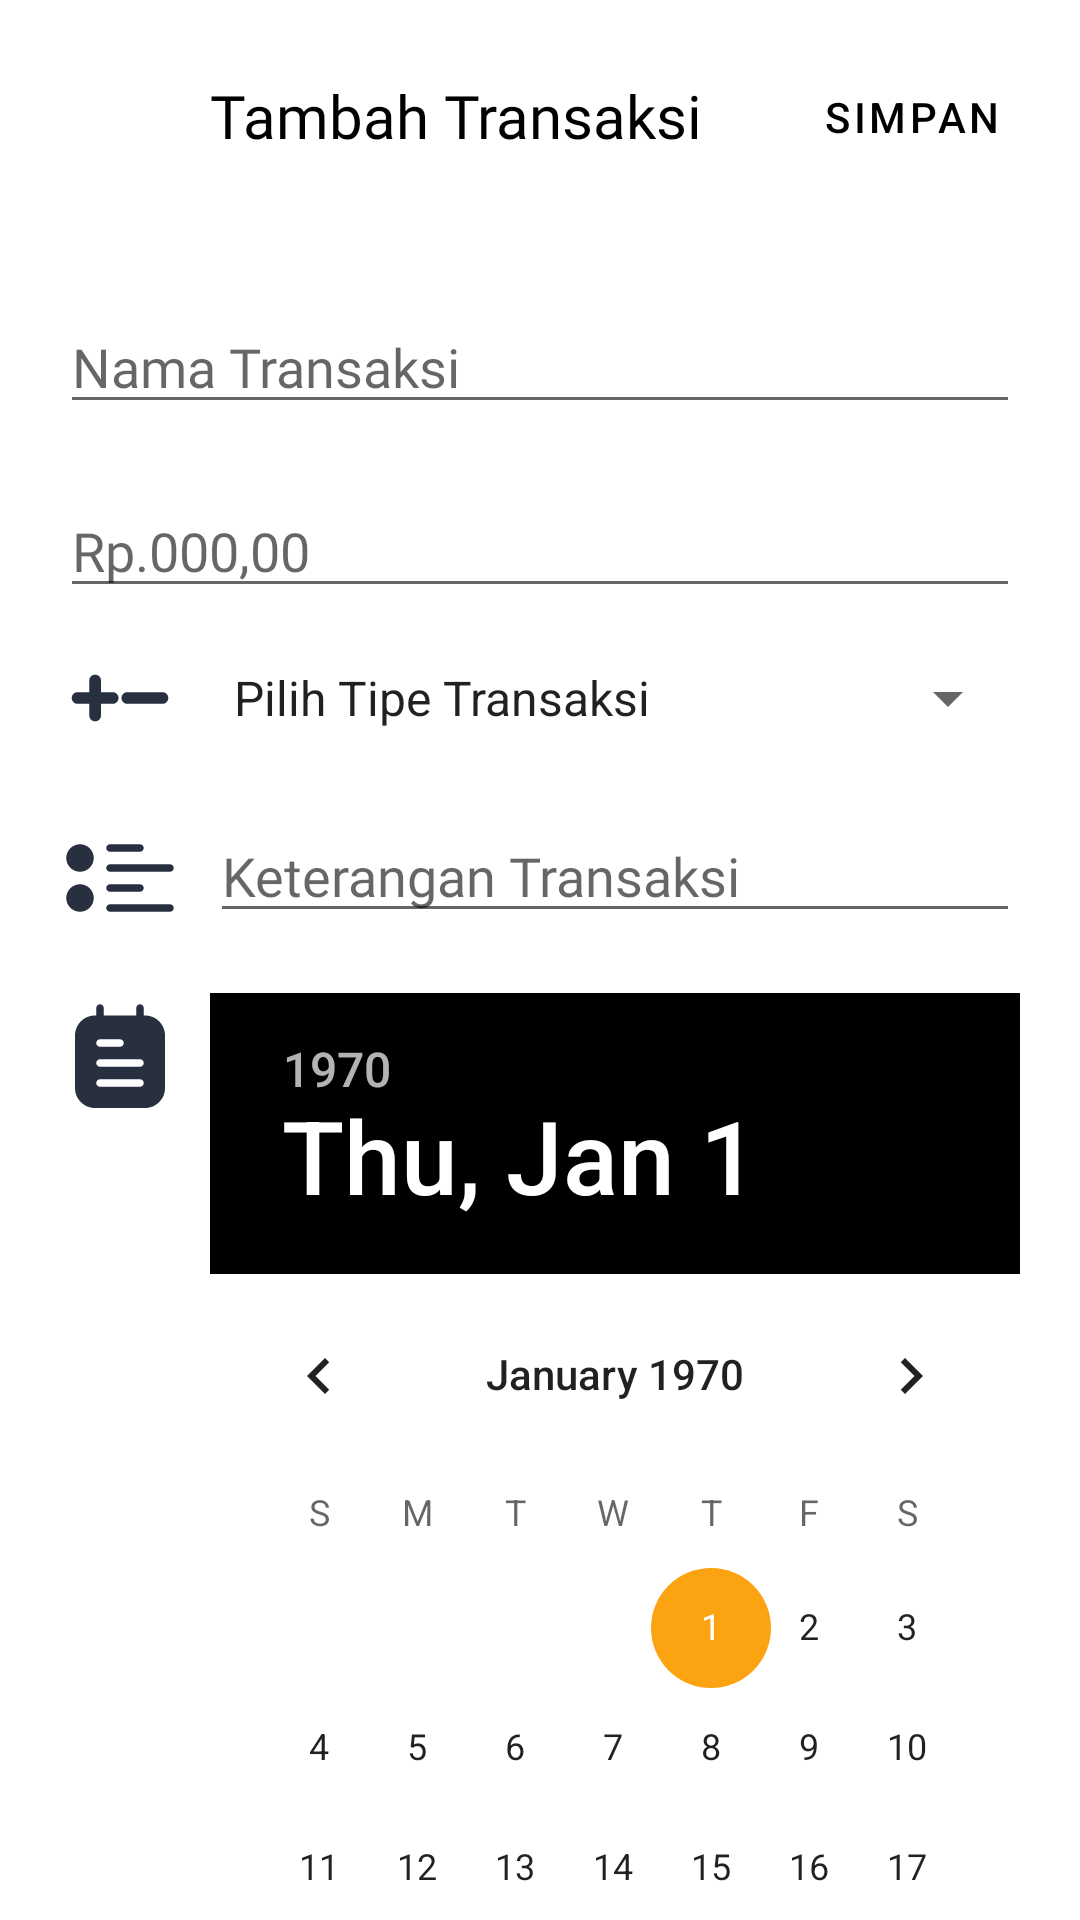

Screen size 1080*1920. Icon name, then its center in pixels as point (x, y):
agenda: point (120, 1056)
list view circle: point (120, 878)
plusminus: point (120, 698)
